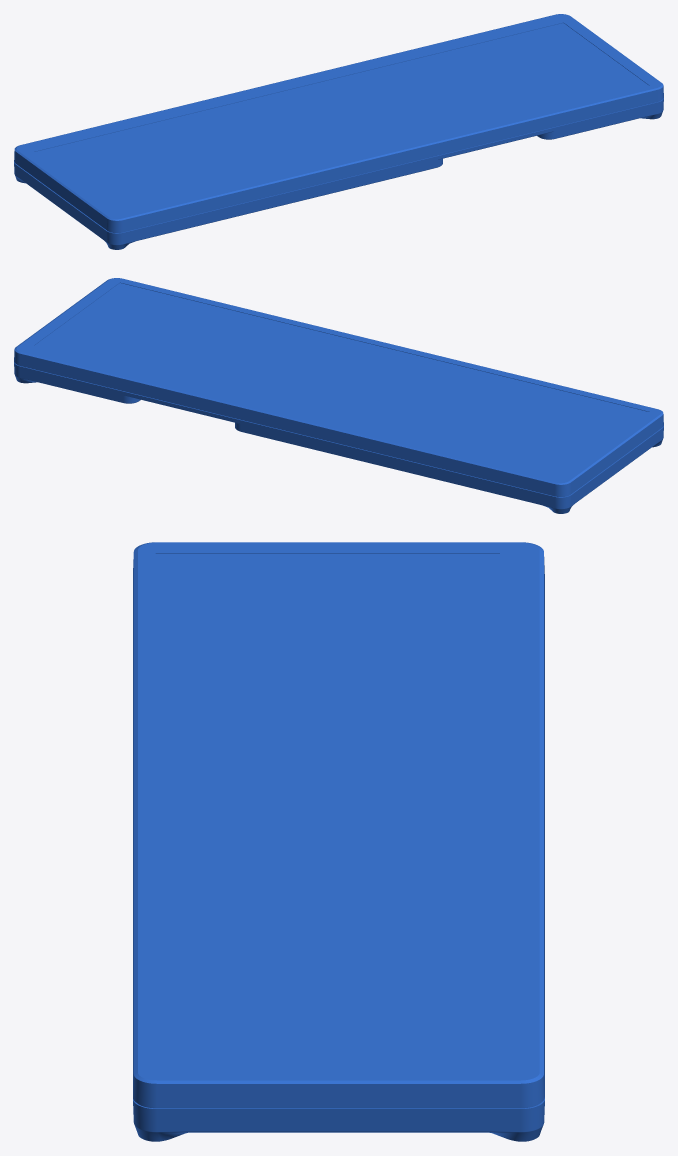
Rendered from xeneon_edge.glb.
3 views of the same model, one above another, from view 1: azimuth 30°, elevation 25°; view 2: azimuth 150°, elevation 25°; view 3: azimuth 270°, elevation 25° (orthographic). The views are drawn at different scales.
Parts seen in each view (by area): view 1: ecran; view 2: ecran; view 3: ecran.
Part boxes in pixels (box(x1,y1,x2,y2)): ecran: box(14, 14, 663, 249); ecran: box(14, 278, 663, 513); ecran: box(133, 542, 544, 1141).
Size of the model in its own units: 0.3721 by 0.0198 by 0.1195.
